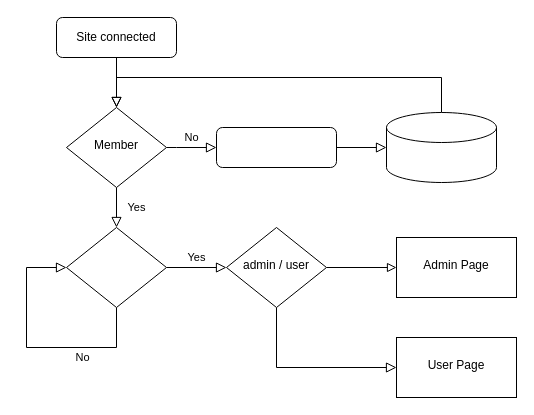
Some shapes in this 534 by 415 pixel diagram are drawn without their labels. The shapes that lost their labels are listed below. From the top down, each one's box as (x1, y1, x2, y2) in pixels, then its label:
(216, 126, 336, 168): sign up
(386, 112, 496, 182): USER(DB)
(66, 226, 166, 308): log in
